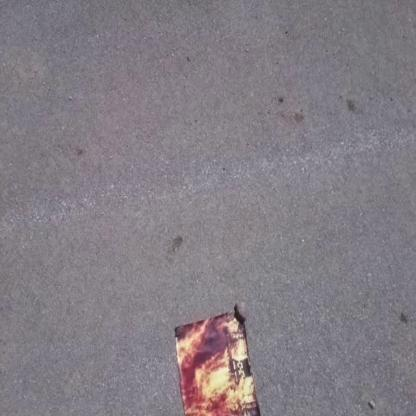fire-poster: (173, 302, 262, 415)
